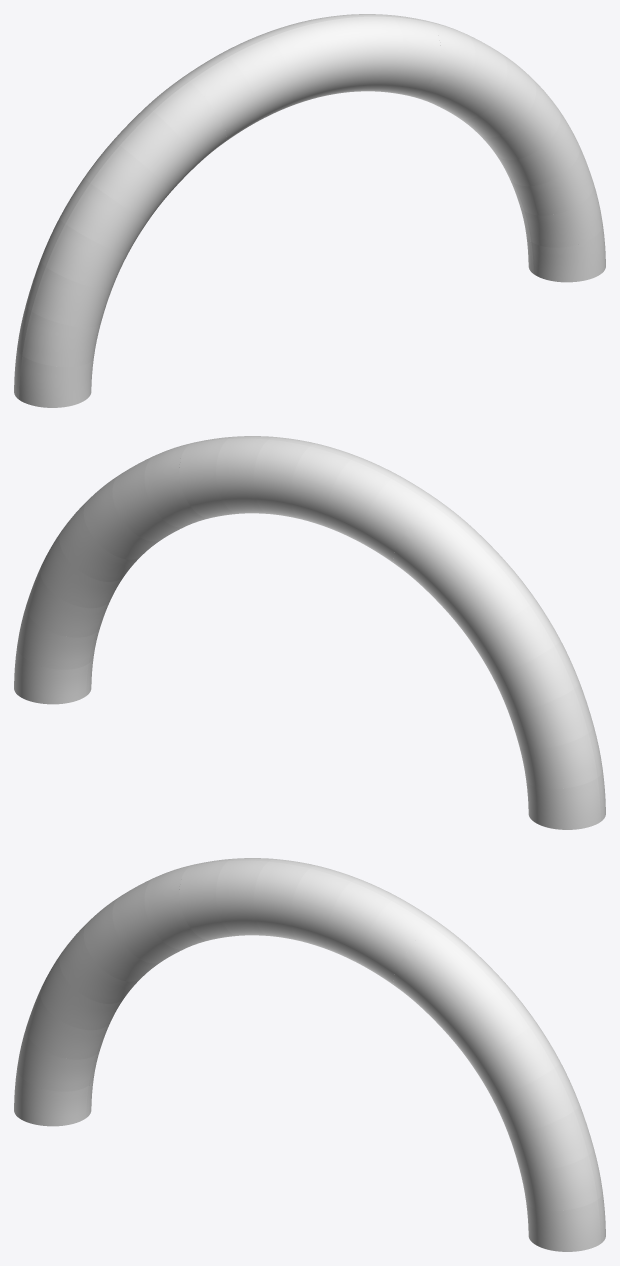
The model's file is Arco.obj.
The picture shows the model from 3 angles, top to bottom: view 1: azimuth 30°, elevation 25°; view 2: azimuth 150°, elevation 25°; view 3: azimuth 330°, elevation 25°; orthographic projection.
Parts seen in each view (by area): view 1: Arco044, Arco048, Arco053, Arco050, Arco, Arco055, Arco049, Arco051, Arco045, Arco052, Arco054, Arco036 (+10 smaller); view 2: Arco026, Arco015, Arco021, Arco018, Arco024, Arco023, Arco016, Arco019, Arco017, Arco020, Arco022, Arco005 (+10 smaller); view 3: Arco040, Arco029, Arco035, Arco032, Arco038, Arco037, Arco030, Arco033, Arco031, Arco034, Arco036, Arco054 (+10 smaller).
Boxes of the visible parts, box(x1,y1,x2,y2) form: Arco044: box(65, 183, 147, 254); Arco048: box(90, 145, 170, 221); Arco053: box(120, 111, 197, 191); Arco050: box(46, 224, 127, 289); Arco: box(153, 81, 226, 164); Arco055: box(31, 267, 111, 327); Arco049: box(189, 57, 258, 140); Arco051: box(22, 311, 100, 366); Arco045: box(228, 38, 293, 121); Arco052: box(19, 356, 93, 407); Arco054: box(269, 24, 329, 106); Arco036: box(310, 17, 366, 96); Arco026: box(472, 605, 554, 676); Arco015: box(449, 567, 529, 643); Arco021: box(422, 533, 499, 613); Arco018: box(492, 646, 573, 711); Arco024: box(393, 503, 466, 586); Arco023: box(508, 689, 588, 749); Arco016: box(361, 479, 430, 562); Arco019: box(519, 733, 597, 788); Arco017: box(326, 460, 391, 543); Arco020: box(526, 778, 600, 829); Arco022: box(290, 446, 350, 528); Arco005: box(253, 439, 309, 518); Arco040: box(472, 1027, 554, 1098); Arco029: box(449, 989, 529, 1065); Arco035: box(422, 955, 499, 1035); Arco032: box(492, 1068, 573, 1133); Arco038: box(393, 925, 466, 1008); Arco037: box(508, 1111, 588, 1171); Arco030: box(361, 901, 430, 984); Arco033: box(519, 1155, 597, 1210); Arco031: box(326, 882, 391, 965); Arco034: box(526, 1200, 600, 1251); Arco036: box(290, 868, 350, 950); Arco054: box(253, 861, 309, 940).
Bounding box in the file's own units: 22.35 × 11.17 × 2.57.
1 material, 1 textured.
